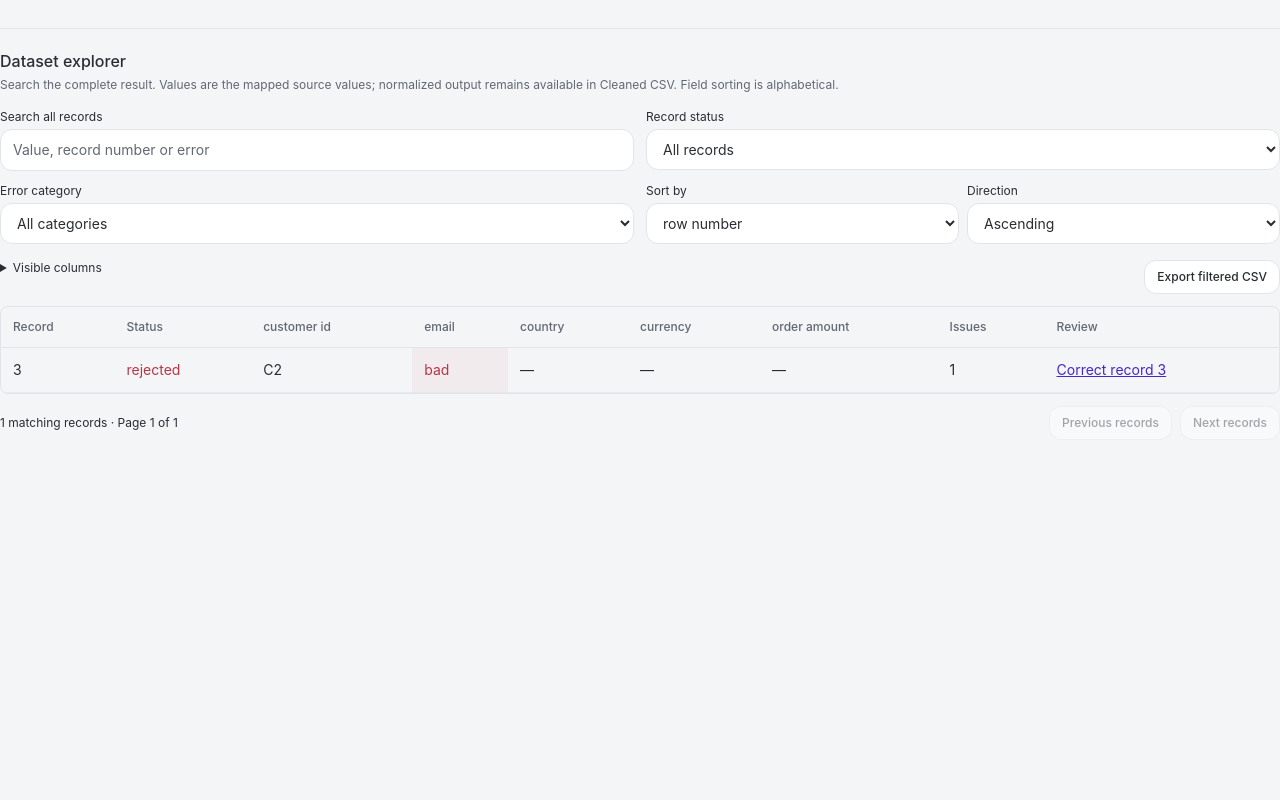
Test: requires validation again after editing and supports undo
Click the button "Correct record 3" at (1111, 370), box left=1056, top=360, right=1166, bottom=380
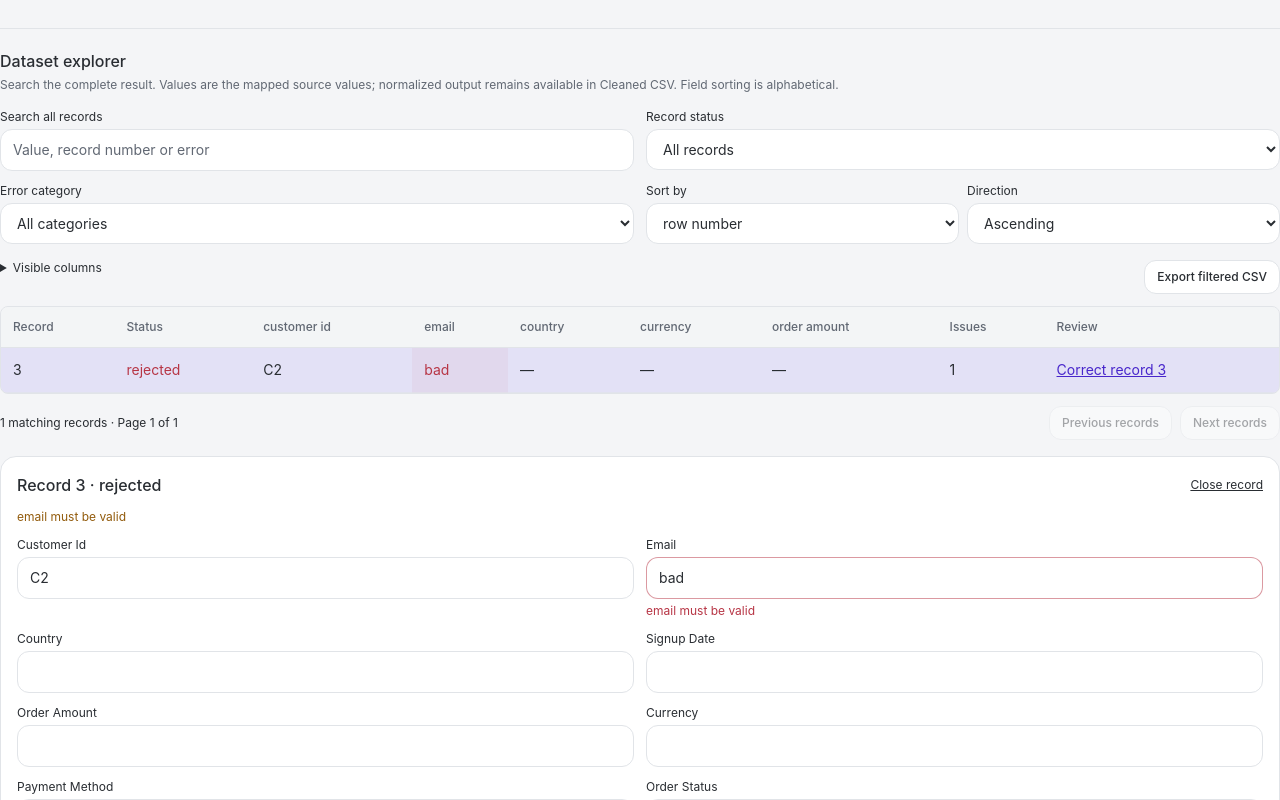
Replace the text in the field named "Record 3 email" with "bob@example.com" at (954, 578), box left=646, top=557, right=1263, bottom=599
(page scrolled)
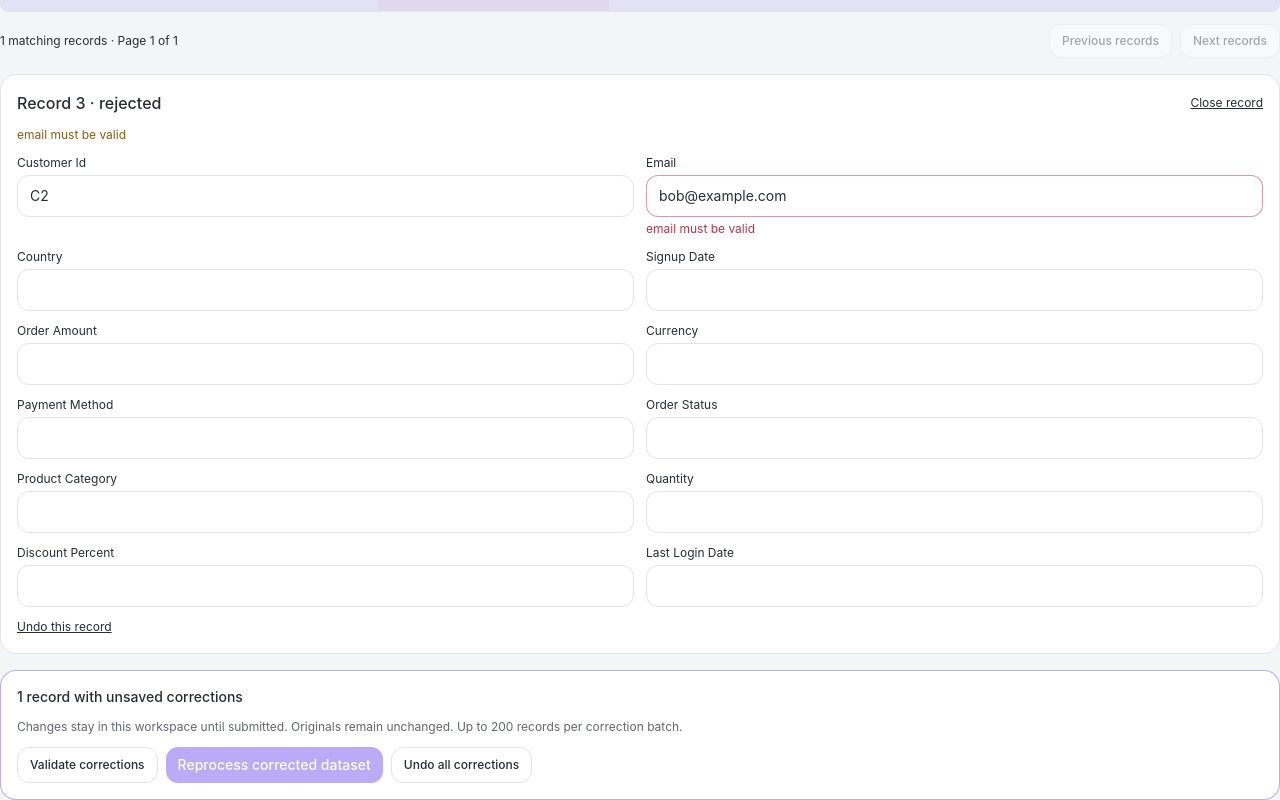
Now the button "Reprocess corrected dataset" is disabled, box left=166, top=747, right=383, bottom=783
Click the button "Validate corrections" at (87, 765), box left=17, top=747, right=158, bottom=783
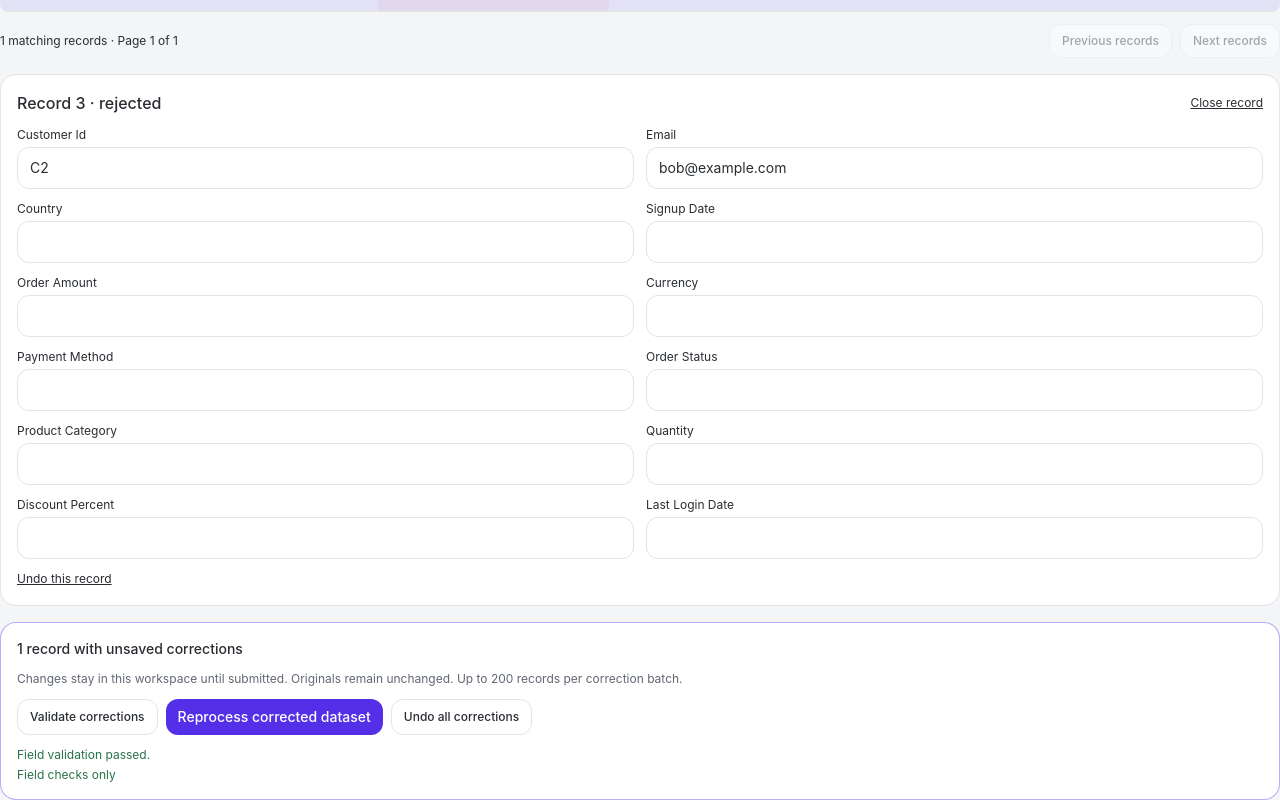
Now the text "Field validation passed." is shown, box left=17, top=747, right=150, bottom=762
Now the button "Reprocess corrected dataset" is enabled, box left=166, top=699, right=383, bottom=735
Replace the text in the field named "Record 3 email" with "changed@example.com" at (954, 168), box left=646, top=147, right=1263, bottom=189
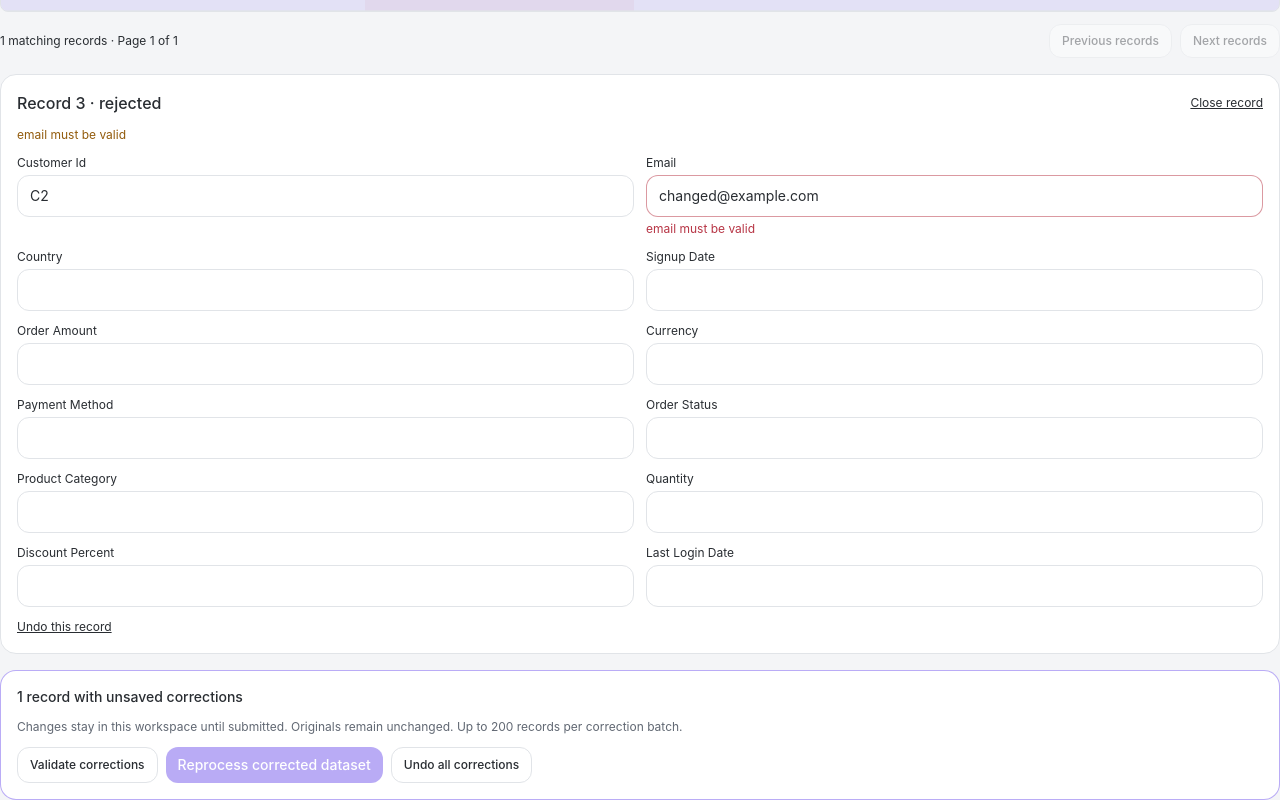
Now the button "Reprocess corrected dataset" is disabled, box left=166, top=747, right=383, bottom=783
Click the button "Undo this record" at (64, 627), box left=17, top=619, right=112, bottom=635
(page scrolled)
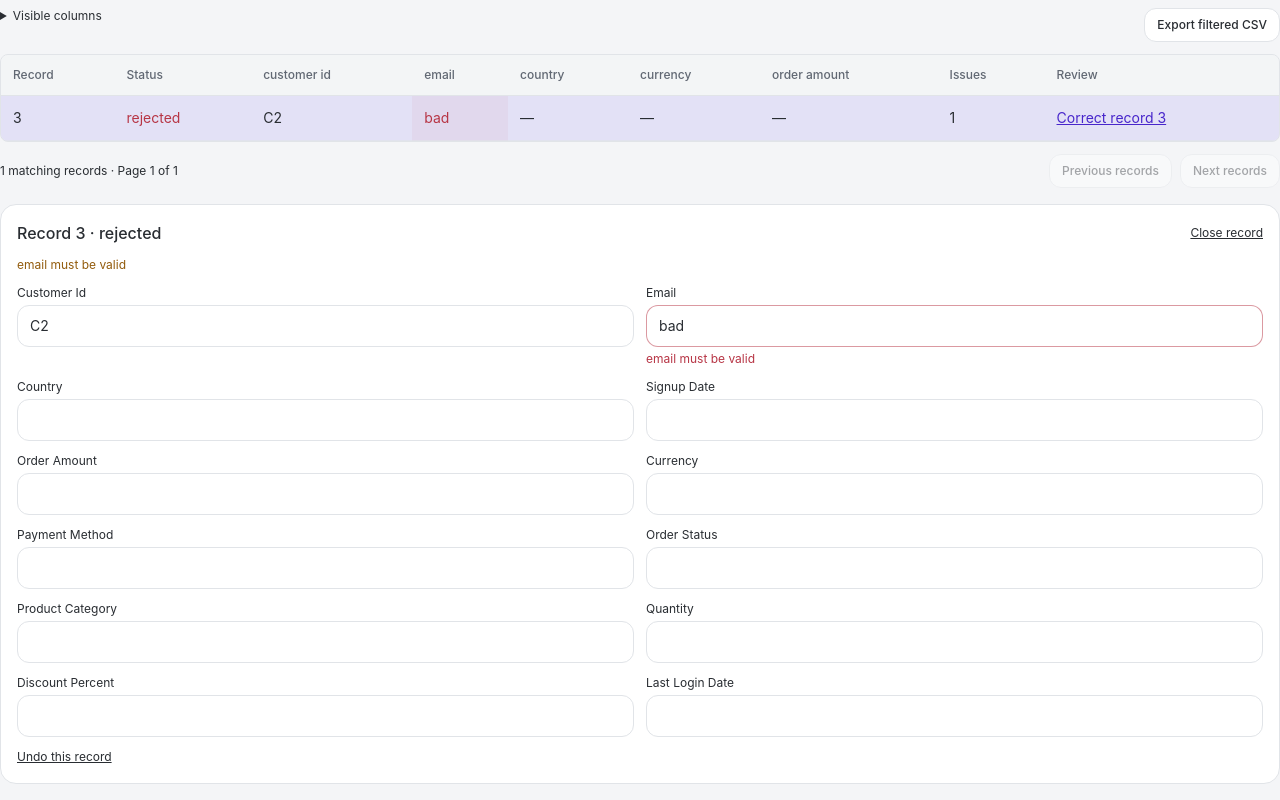
Now the field named "Record 3 email" holds "bad", box left=646, top=305, right=1263, bottom=347
Now the button "Reprocess corrected dataset" is gone
